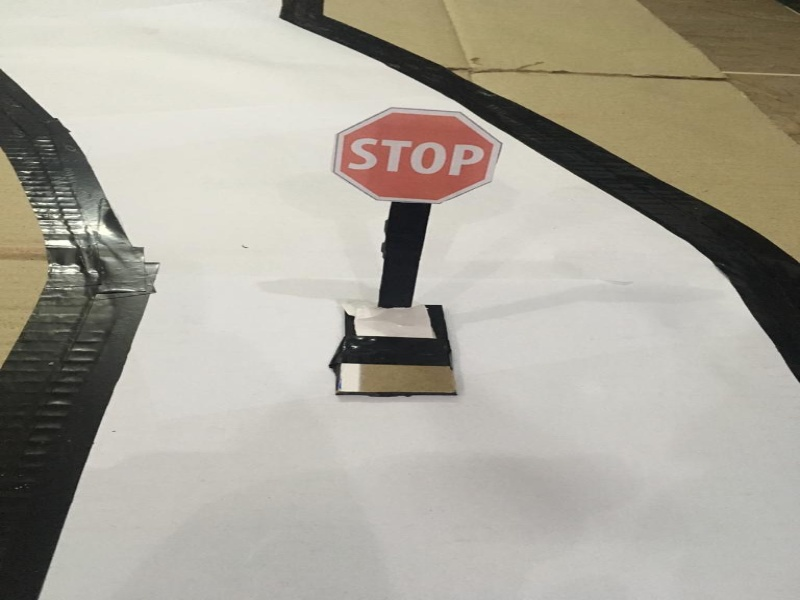Stop: (325, 93, 502, 204)
